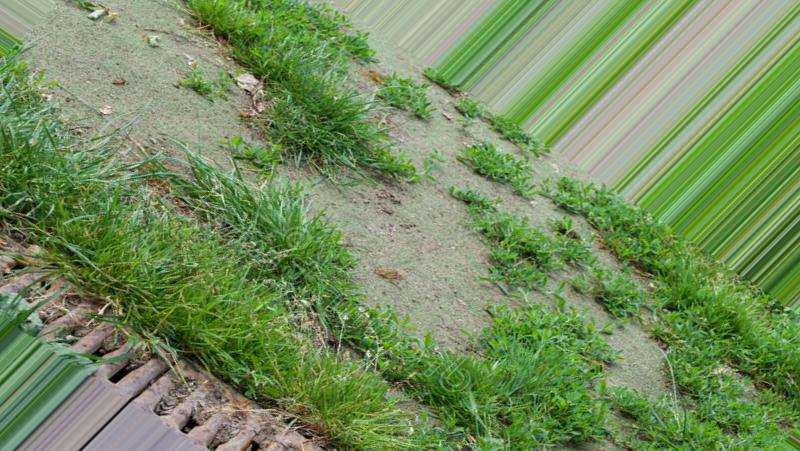patch: (316, 190, 470, 327), (100, 42, 227, 139), (438, 128, 549, 227)
